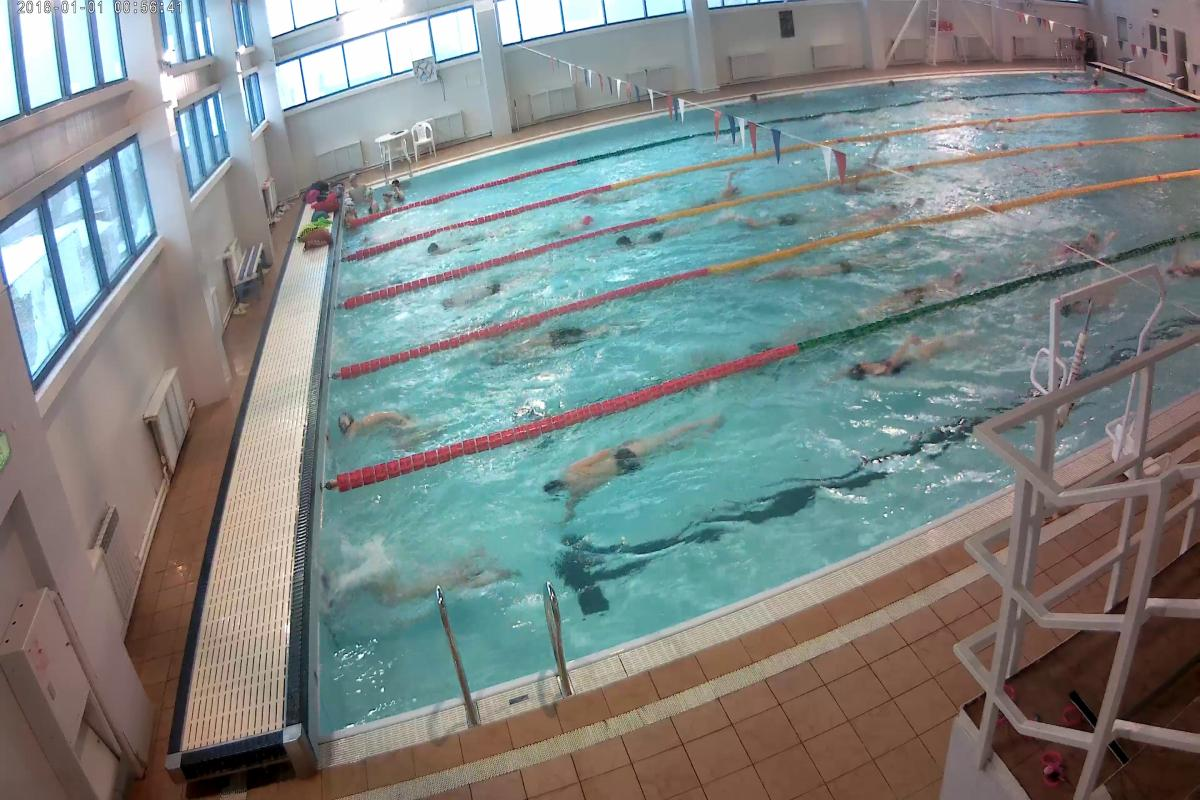swimmer: (540, 417, 727, 509), (366, 545, 508, 608), (841, 322, 952, 385), (877, 257, 972, 319), (750, 247, 883, 281), (432, 268, 518, 313), (338, 401, 418, 444), (611, 225, 681, 265), (423, 229, 487, 258), (708, 160, 750, 200)
